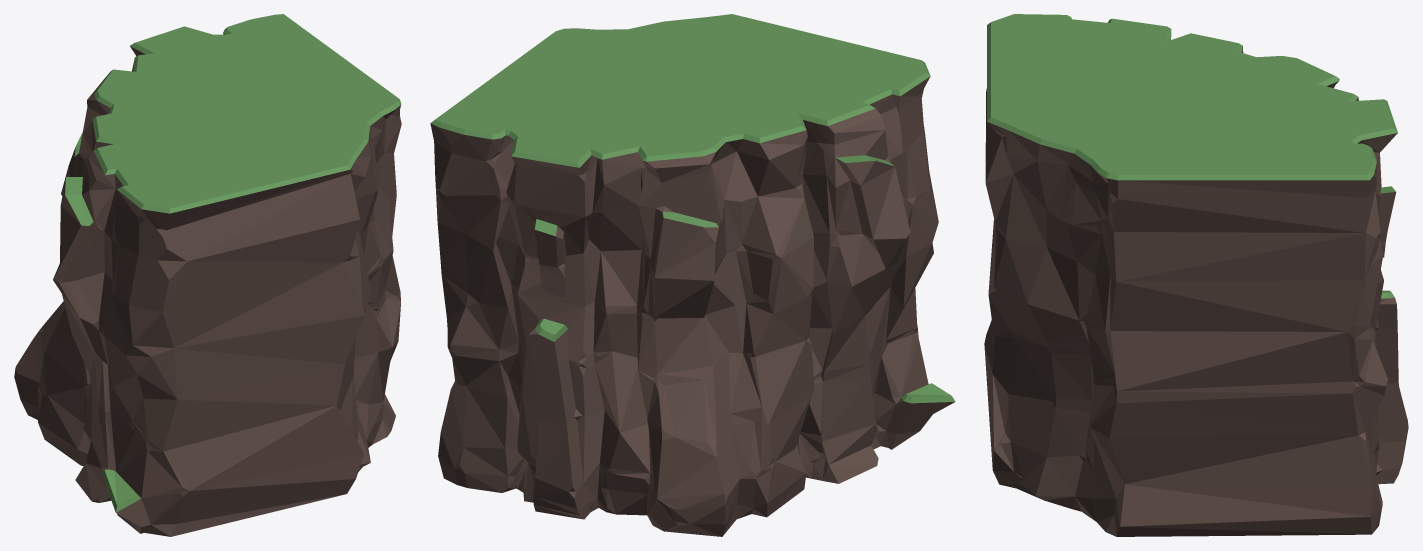
Rendered from Cliff H 5.fbx.
The picture shows the model from 3 angles, left to right: view 1: azimuth 30°, elevation 25°; view 2: azimuth 150°, elevation 25°; view 3: azimuth 270°, elevation 25°; orthographic projection. The views are drawn at different scales.
Parts seen in each view (by area): view 1: Cliff 16; view 2: Cliff 16; view 3: Cliff 16.
Boxes of the visible parts, x1,y1,x2,y2 form: Cliff 16: (14, 14, 401, 536); Cliff 16: (430, 14, 955, 536); Cliff 16: (984, 14, 1408, 536).
Bounding box in the file's own units: 217 × 202 × 213.
